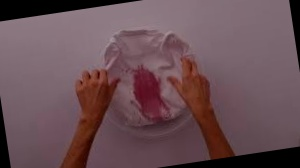wine: (124, 59, 180, 133)
